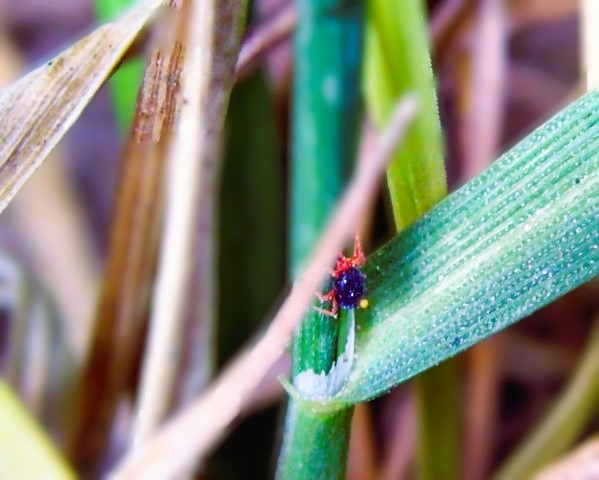Wheat Red Spider: (313, 238, 380, 330)
